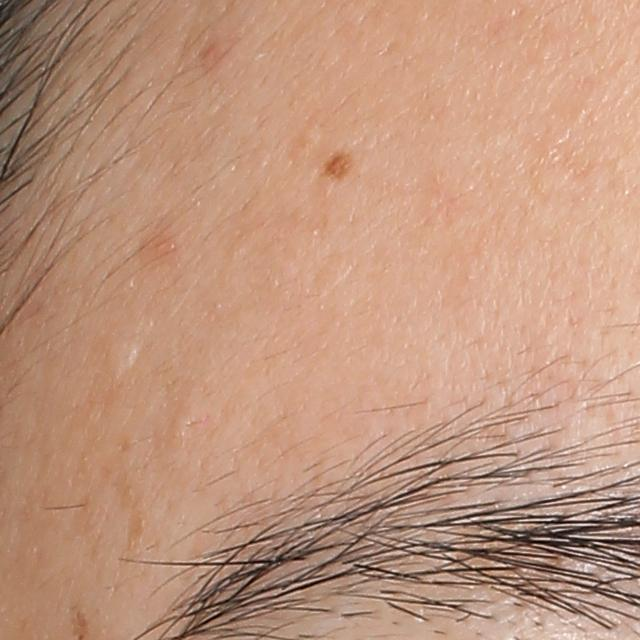nevus: (322, 153, 353, 181)
